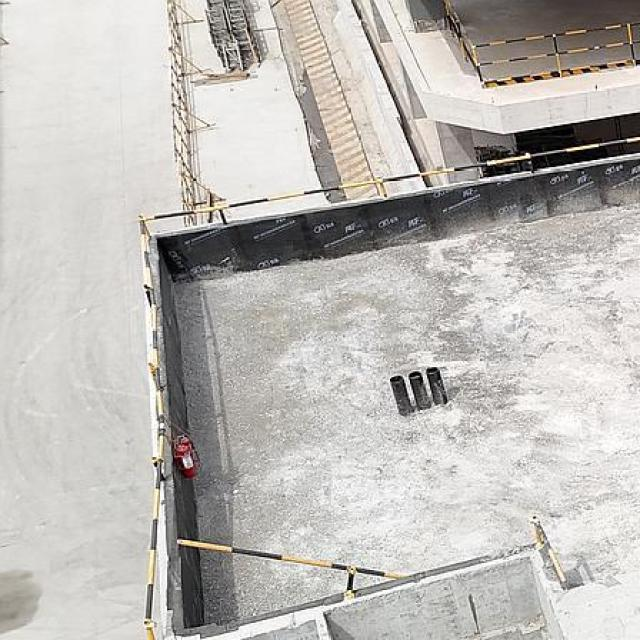edge_guardrail: (134, 135, 639, 640), (441, 0, 640, 86), (176, 537, 413, 580), (529, 513, 568, 583)
